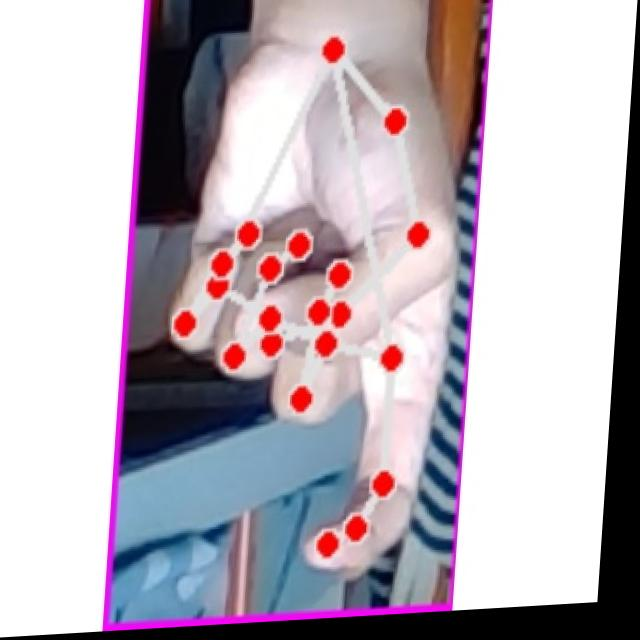X: (156, 18, 475, 597)
